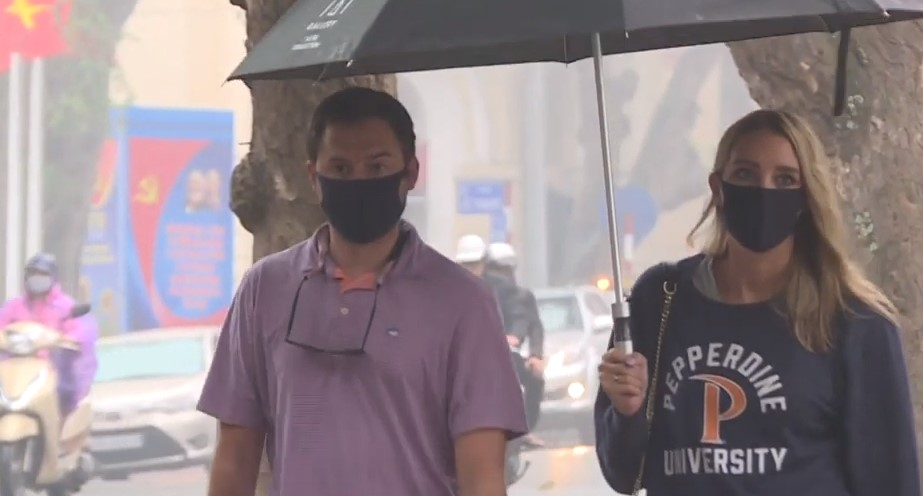face_with_mask: (305, 85, 423, 247), (705, 107, 822, 256)
